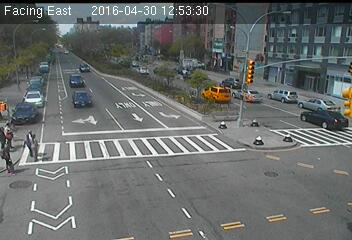neg: (131, 150, 173, 206), (98, 114, 124, 148), (299, 81, 321, 110), (264, 77, 284, 104), (260, 120, 276, 142), (49, 83, 65, 104), (67, 97, 83, 118), (239, 136, 255, 156), (197, 60, 211, 78), (149, 77, 163, 95), (65, 54, 79, 71), (321, 101, 334, 118), (82, 51, 95, 68), (115, 74, 128, 90), (36, 68, 48, 84), (187, 150, 198, 164), (223, 71, 233, 84), (251, 85, 260, 97), (288, 112, 294, 120)
pos: (17, 128, 41, 160), (22, 132, 43, 160)
